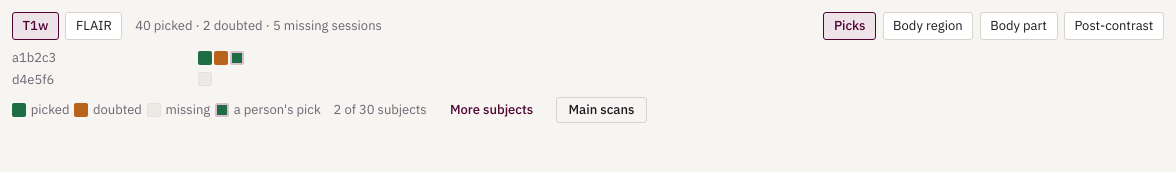
Test: the heatmap drawn › a cell a session, the role a key, a person's pick by its border, and the next subjects on a press
Expected: the text with class "heat-totals" reads "40 picked · 2 doubted · 5 missing sessions", [135,16,382,36]
Expected: the button "T1w" is shown, [12,12,59,40]
the next role: its own cells and totals
What coordinates should you click on to do the following:
click the button "FLAIR"
I would click on:
 (94, 26)
Its box is [65,12,122,40].
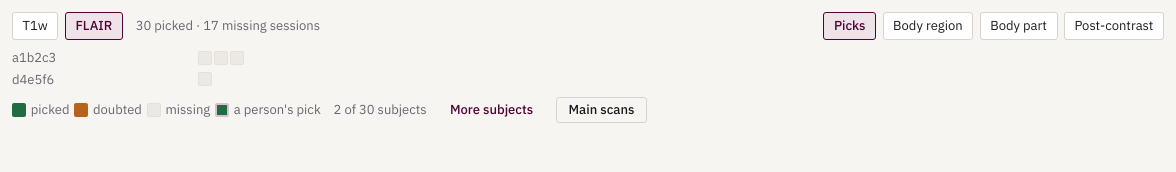
Expected: the text with class "heat-totals" reads "30 picked · 17 missing sessions", [136,16,320,36]
the next subjects
What coordinates should you click on to do the following:
click the button "More subjects"
I would click on:
 (492, 110)
Its box is [440,97,544,123].
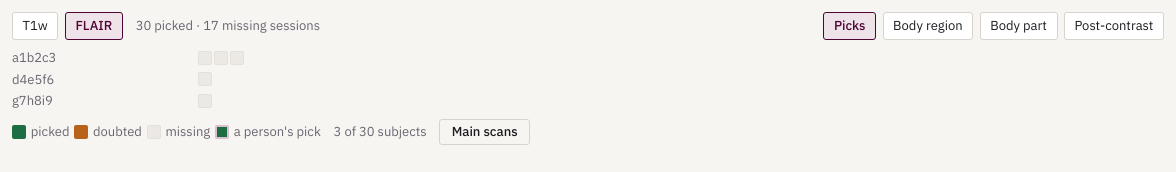
Expected: the number of list items with class "heat-row" is 3, [12,49,244,66]; [12,70,212,88]; [12,92,212,109]
